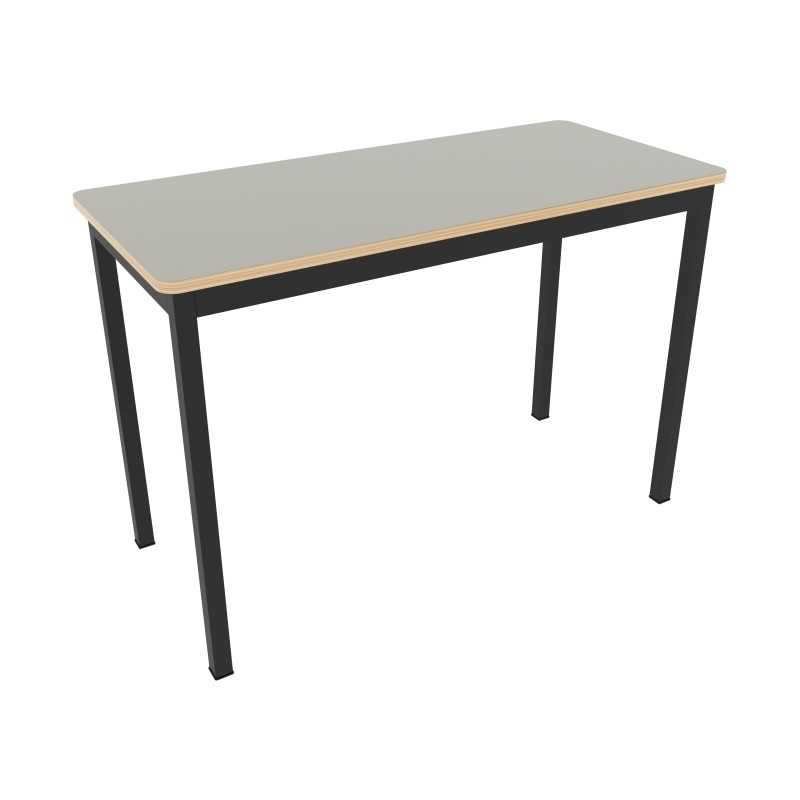m01: (73, 119, 728, 682)
